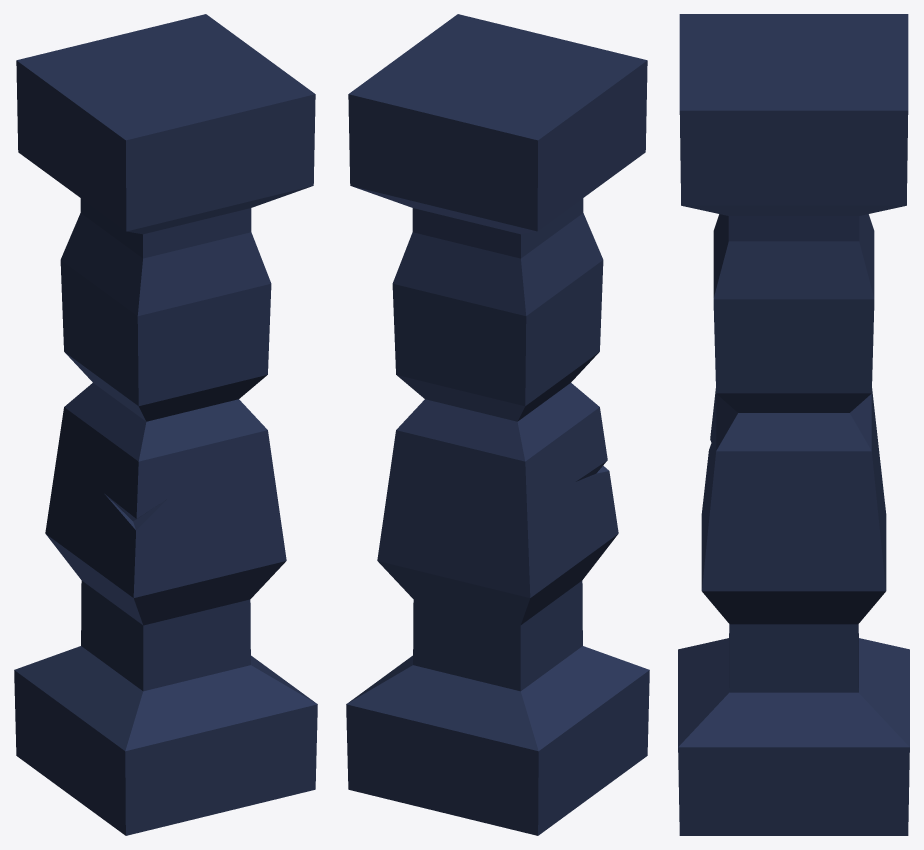
The model's file is Prop_Pillar.obj.
The picture shows the model from 3 angles, left to right: view 1: azimuth 30°, elevation 25°; view 2: azimuth 150°, elevation 25°; view 3: azimuth 270°, elevation 25°; orthographic projection. The views are drawn at different scales.
Visible parts, largest first — view 1: EXPORT_Prop_Pillar; view 2: EXPORT_Prop_Pillar; view 3: EXPORT_Prop_Pillar.
Part boxes in pixels (bbox=[...]): EXPORT_Prop_Pillar: bbox=[14, 14, 317, 835]; EXPORT_Prop_Pillar: bbox=[346, 14, 649, 835]; EXPORT_Prop_Pillar: bbox=[678, 14, 909, 835].
Size of the model in its own units: 0.8948 by 3.09 by 0.8948.
